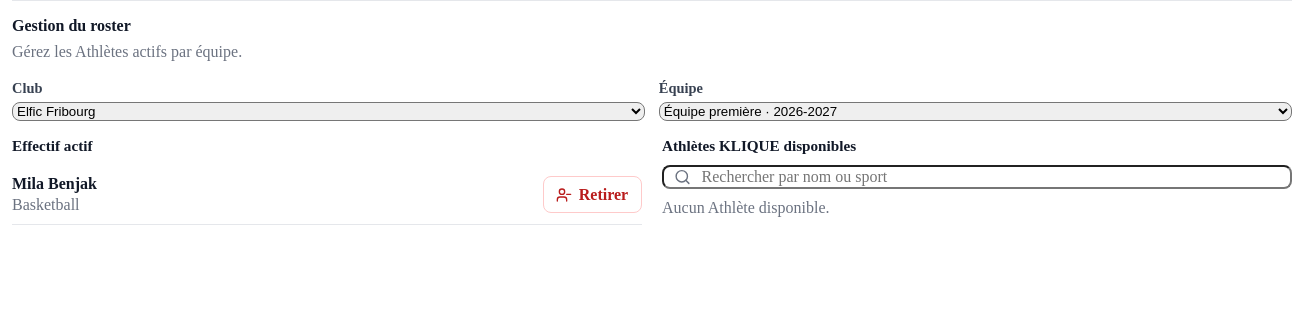
Test: Club roster Admin UI › removes an Athlete after confirmation and refreshes both lists
Click the button with aria-label "Retirer Mila Benjak": (592, 195) [543,176,642,213]
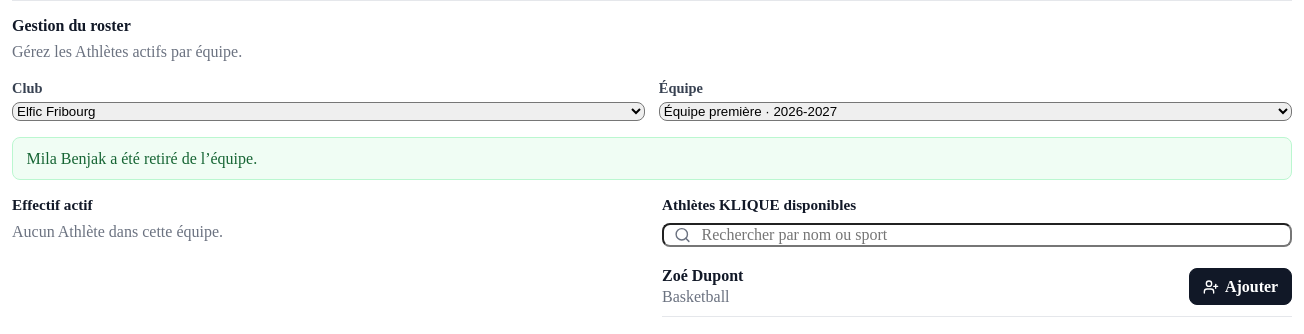
expect the message "Mila Benjak a été retiré de l’équipe." is shown: met, box [12,137,1292,180]
